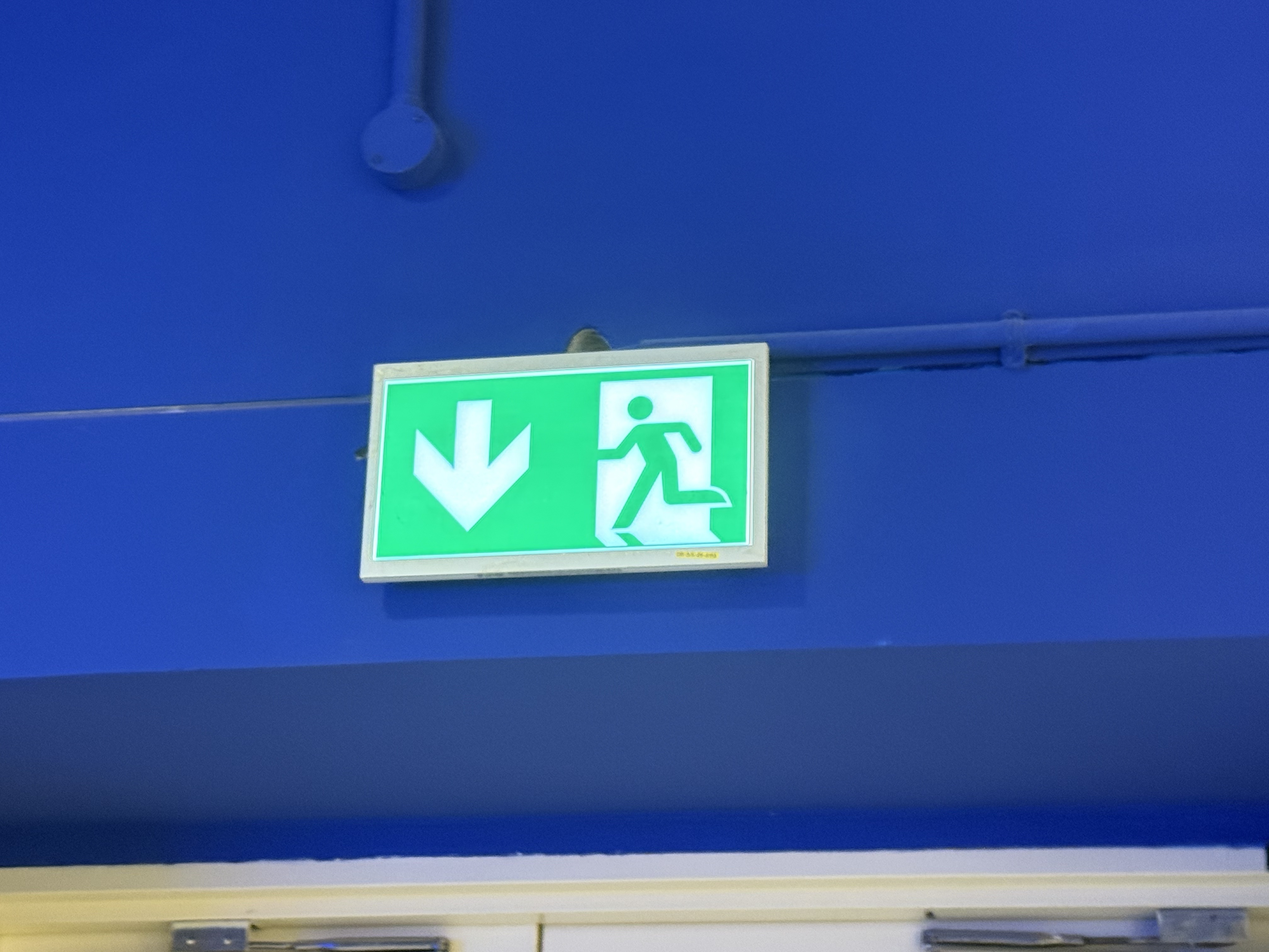emergency_exit: (358, 341, 771, 583)
